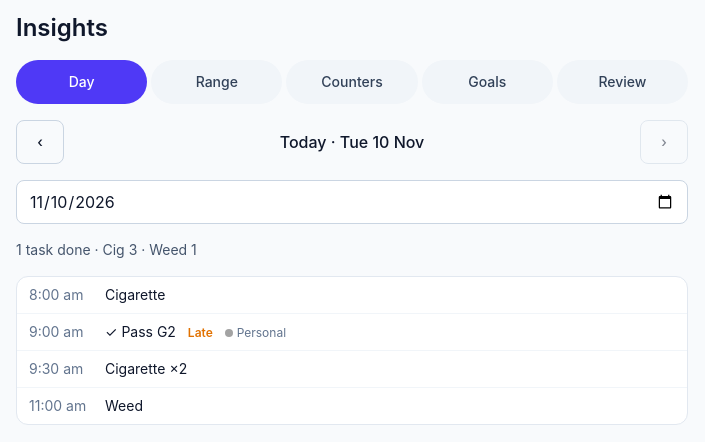
Insights → Day › steps back a day, and cannot go past today
Check: the button named "Next" is disabled, box [640,120,688,164]
Click the button named "Previous": (40, 142) [16,120,64,164]
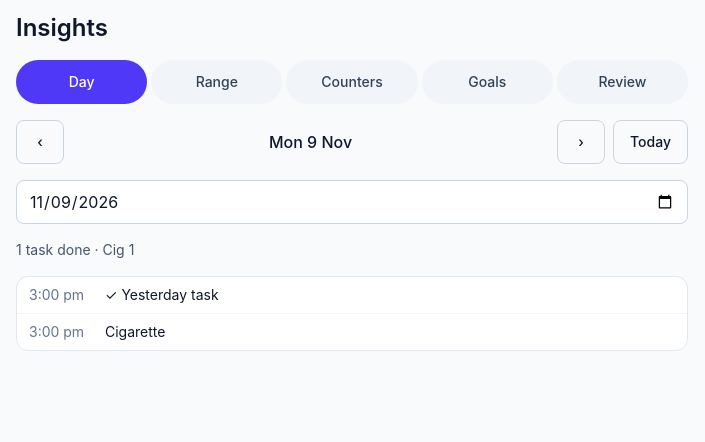
Check: the text "Mon 9 Nov" is shown, box [269,132,352,152]
Check: the text "1 task done · Cig 1" is shown, box [16,241,134,258]
Check: the text "Yesterday task" is shown, box [121,286,219,303]
